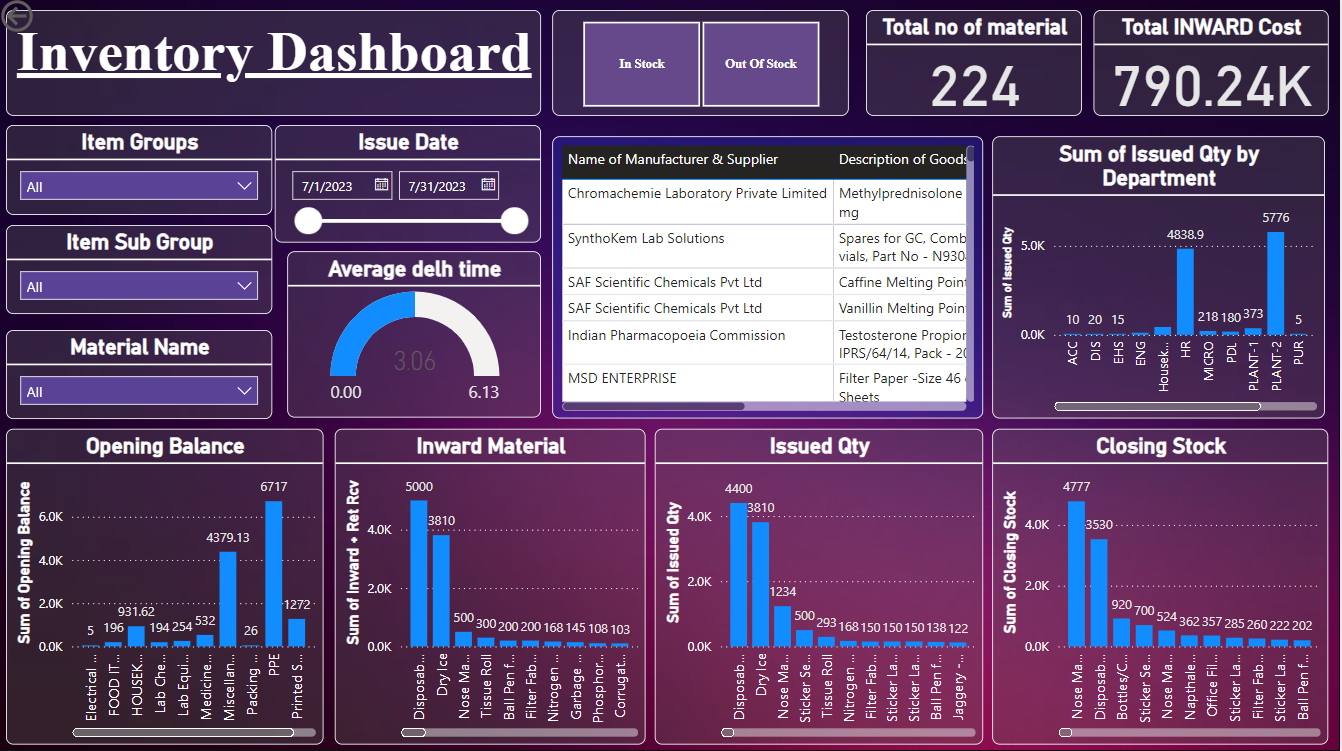

What the dashboard file says about the page in this screenshot:
{"tool":"powerbi","page":{"name":" Dashboard","canvas":[1280,720],"ordinal":2},"visuals":[{"type":"slicer","title":"Item Groups","fields":{"Values":["SUMMARY.Item Groups"]},"box":[9.5,123.8,253.5,85.7],"z":0},{"type":"textbox","box":[9.5,14.3,509.4,101.2],"z":1000},{"type":"slicer","title":"Item Sub Group","fields":{"Values":["SUMMARY.Item Sub Group"]},"box":[9.5,219,253.5,84.5],"z":2000},{"type":"slicer","title":"Material Name","fields":{"Values":["SUMMARY.Name of  Material"]},"box":[9.5,318.9,253.5,84.5],"z":3000},{"type":"clusteredColumnChart","title":"Opening Balance","fields":{"Category":["SUMMARY.Item Groups Hierarchy.Item Groups","SUMMARY.Item Groups Hierarchy.Item Sub Group","SUMMARY.Item Groups Hierarchy.Name of  Material"],"Y":["Sum(SUMMARY.Opening Balance )"]},"box":[9.5,413,302.3,301.1],"z":4000},{"type":"slicer","title":"Issue Date","fields":{"Values":["ISSUE DATEWISE.Issue Date"]},"box":[265.4,123.8,253.5,111.9],"z":5000},{"type":"columnChart","fields":{"Category":["ISSUE DATEWISE.Department","ISSUE DATEWISE.Department Hierarchy.Department","ISSUE DATEWISE.Department Hierarchy.Description of Goods"],"Y":["Sum(ISSUE DATEWISE.Issued Qty)"]},"box":[948.5,134.5,316.6,269],"z":6000},{"type":"columnChart","title":"Closing Stock ","fields":{"Category":["SUMMARY.Name of  Material"],"Y":["Sum(SUMMARY.Closing Stock )"]},"box":[948.5,413,320.1,301.1],"z":7000},{"type":"tableEx","fields":{"Values":["INWARD.Name of Manufacturer & Supplier","INWARD.Description of Goods","Sum(INWARD.Receipt  Qty)","Sum(INWARD.Rate )"]},"box":[529.6,134.5,410.6,269],"z":8000},{"type":"gauge","title":"Average delh time","fields":{"Y":["Avg(INWARD.daydiff)"]},"box":[277.3,244,241.6,158.3],"z":9000},{"type":"card","title":"Total INWARD Cost","fields":{"Values":["INWARD.Total Cost"]},"box":[1044.9,14.3,223.7,101.2],"z":10000},{"type":"card","title":"Total no of material","fields":{"Values":["INWARD.totalmaterial"]},"box":[828.3,14.3,205.9,101.2],"z":11000},{"type":"columnChart","title":"Inward Material","fields":{"Category":["SUMMARY.Name of  Material"],"Y":["Sum(SUMMARY.Inward + Ret Rcv)"]},"box":[322.5,413,296.3,301.1],"z":12000},{"type":"columnChart","title":"Issued Qty","fields":{"Category":["SUMMARY.Name of  Material"],"Y":["Sum(SUMMARY.Issued Qty)"]},"box":[627.2,413,313,301.1],"z":13000},{"type":"slicer","fields":{"Values":["SUMMARY.Custom"]},"box":[529.6,14.3,282,101.2],"z":14000},{"type":"actionButton","box":[0,0,100,40],"z":15000}]}

Visuals, with their boxes in screenshot pixels (x1, y1, x2, y2), scaled from the page's 1280x720 canvas onto the 1342x751 screenshot:
"Item Groups" slicer: box=[10, 129, 276, 219]
textbox: box=[10, 15, 544, 120]
"Item Sub Group" slicer: box=[10, 228, 276, 317]
"Material Name" slicer: box=[10, 333, 276, 421]
"Opening Balance" clusteredColumnChart: box=[10, 431, 327, 745]
"Issue Date" slicer: box=[278, 129, 544, 246]
columnChart - ISSUE DATEWISE.Department x ISSUE DATEWISE.Department Hierarchy.Department: box=[994, 140, 1326, 421]
"Closing Stock " columnChart: box=[994, 431, 1330, 745]
tableEx - INWARD.Name of Manufacturer & Supplier x INWARD.Description of Goods: box=[555, 140, 986, 421]
"Average delh time" gauge: box=[291, 255, 544, 420]
"Total INWARD Cost" card: box=[1096, 15, 1330, 120]
"Total no of material" card: box=[868, 15, 1084, 120]
"Inward Material" columnChart: box=[338, 431, 649, 745]
"Issued Qty" columnChart: box=[658, 431, 986, 745]
slicer - SUMMARY.Custom: box=[555, 15, 851, 120]
actionButton: box=[0, 0, 105, 42]
